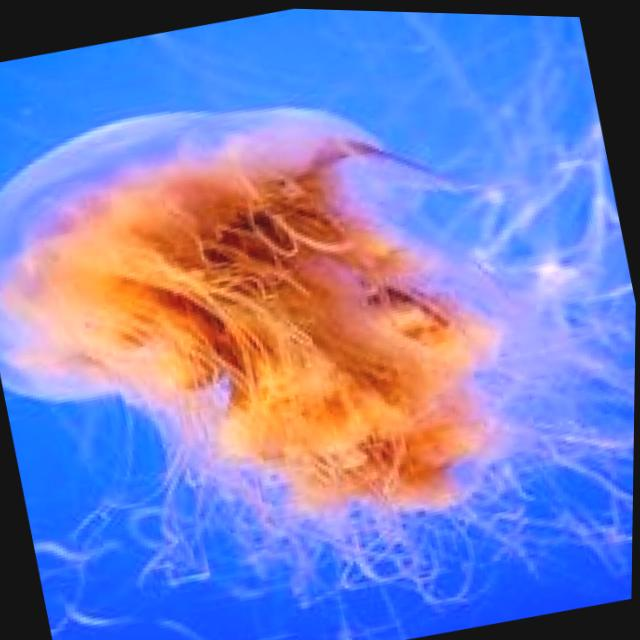Jellyfish: (0, 38, 562, 621)
